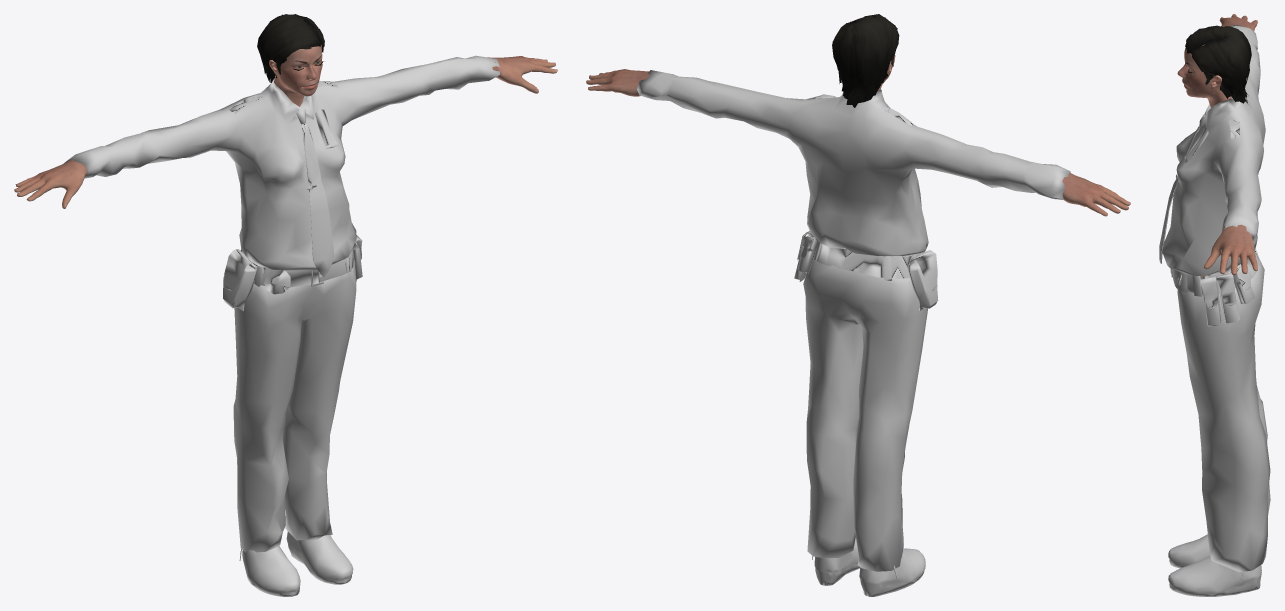
File: decimated-40_DenishCop.fbx
3 renders of one model, left to right at view 1: azimuth 30°, elevation 25°; view 2: azimuth 150°, elevation 25°; view 3: azimuth 270°, elevation 25°, orthographic.
Parts seen in each view (by area): view 1: Bottoms, Tops, Body, Shoes, Hair; view 2: Bottoms, Tops, Hair, Shoes, Body; view 3: Bottoms, Tops, Shoes, Hair, Body.
Part boxes in pixels (<box>): Bottoms: <box>223,235,362,552</box>; Tops: <box>64,55,499,277</box>; Body: <box>14,45,557,265</box>; Shoes: <box>239,531,353,596</box>; Hair: <box>257,14,324,82</box>; Bottoms: <box>794,231,938,571</box>; Tops: <box>637,70,1070,256</box>; Hair: <box>832,14,899,107</box>; Shoes: <box>812,537,925,596</box>; Body: <box>586,55,1130,254</box>; Bottoms: <box>1170,249,1270,572</box>; Tops: <box>1159,24,1265,275</box>; Shoes: <box>1168,534,1261,596</box>; Hair: <box>1185,25,1251,103</box>; Body: <box>1177,14,1257,276</box>.
Bounding box in the file's own units: 17943 × 17706 × 3254.
